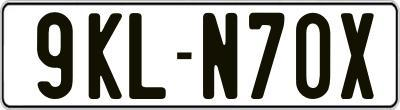0: (293, 11, 333, 100)
7: (247, 10, 284, 102)
9: (37, 11, 79, 100)
K: (88, 12, 122, 104)
L: (129, 10, 166, 97)
N: (203, 13, 240, 105)
X: (340, 10, 373, 101)
